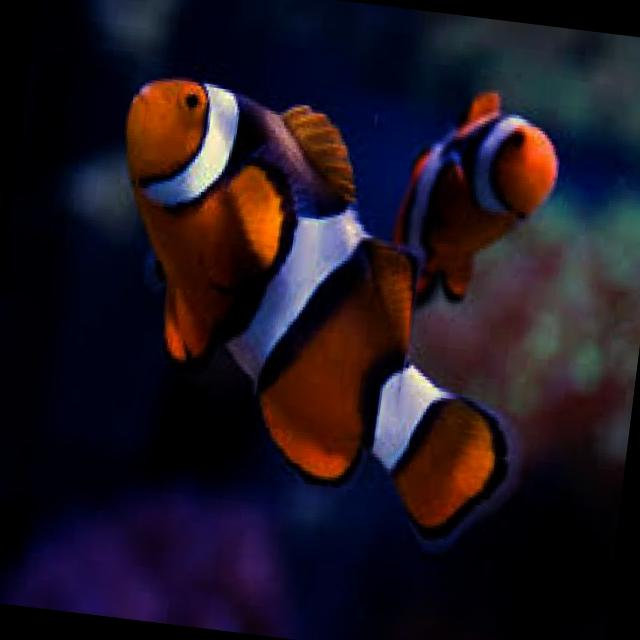ClownFish: (78, 70, 552, 544), (392, 71, 570, 322)
